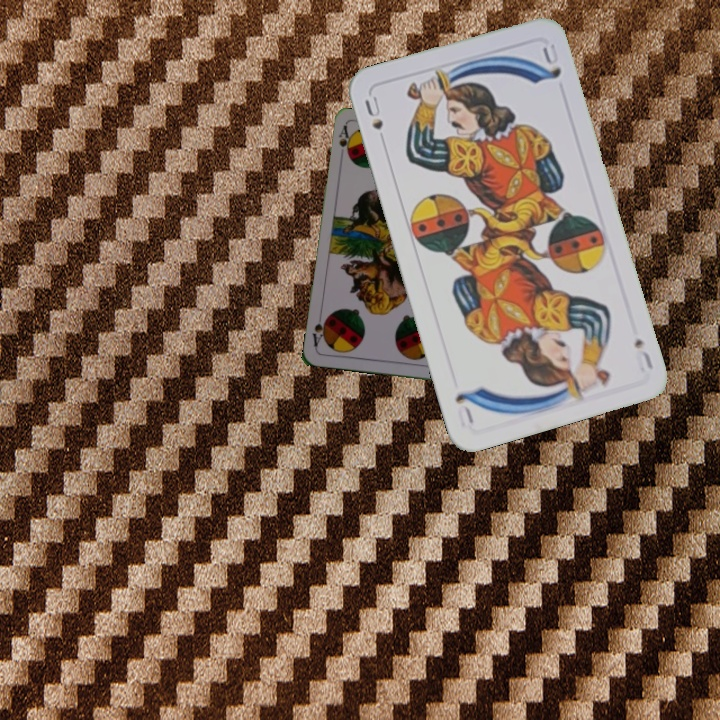SA: (335, 123, 353, 159)
SU: (360, 92, 386, 132), (630, 334, 656, 372)
